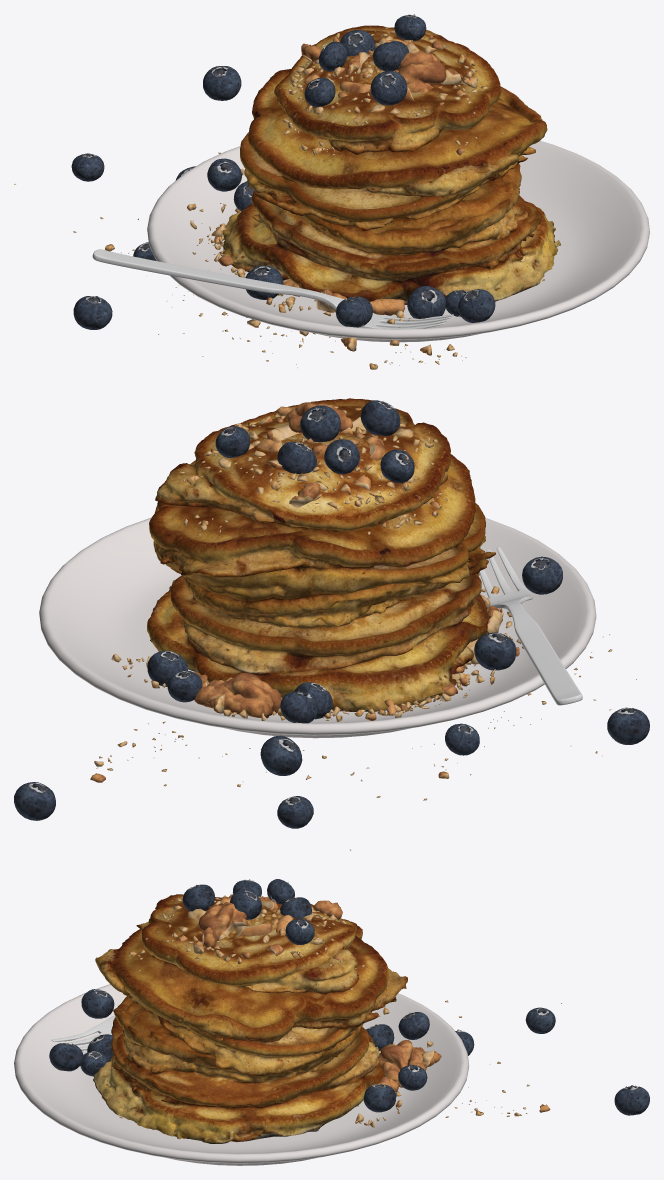
File: panquecas.glb
3 renders of one model, top to bottom at view 1: azimuth 30°, elevation 25°; view 2: azimuth 150°, elevation 25°; view 3: azimuth 270°, elevation 25°, orthographic. The views are drawn at different scales.
Visible parts, largest first — view 1: pancakes_msh, plate_msh, fork_msh, walnut_pancakes_msh, walnut_plate_msh, walnut_broken_msh, blueberry_msh_14, blueberry_msh_13, blueberry_msh_3, blueberry_msh_11, blueberry_msh_18, blueberry_msh_16 (+8 smaller); view 2: pancakes_msh, plate_msh, walnut_plate_msh, walnut_pancakes_msh, fork_msh, walnut_broken_msh, blueberry_msh_20, blueberry_msh_14, blueberry_msh_15, blueberry_msh_13, blueberry_msh_16, blueberry_msh_8 (+11 smaller); view 3: pancakes_msh, plate_msh, walnut_broken_msh, walnut_plate_msh, walnut_pancakes_msh, blueberry_msh_14, blueberry_msh_16, blueberry_msh_18, blueberry_msh_4, blueberry_msh_11, blueberry_msh_19, blueberry_msh_8 (+9 smaller).
Boxes of the visible parts, bbox=[...] form: pancakes_msh: bbox=[222, 25, 560, 304]; plate_msh: bbox=[147, 141, 649, 342]; fork_msh: bbox=[92, 249, 453, 328]; walnut_pancakes_msh: bbox=[281, 27, 503, 161]; walnut_plate_msh: bbox=[14, 152, 466, 369]; walnut_broken_msh: bbox=[301, 38, 446, 100]; blueberry_msh_14: bbox=[203, 66, 241, 100]; blueberry_msh_13: bbox=[73, 296, 112, 329]; blueberry_msh_3: bbox=[407, 286, 445, 318]; blueberry_msh_11: bbox=[370, 71, 407, 105]; blueberry_msh_18: bbox=[458, 289, 495, 322]; blueberry_msh_16: bbox=[336, 296, 372, 327]; pancakes_msh: bbox=[147, 398, 495, 711]; plate_msh: bbox=[39, 517, 596, 738]; walnut_plate_msh: bbox=[90, 586, 636, 850]; walnut_pancakes_msh: bbox=[179, 405, 447, 535]; fork_msh: bbox=[479, 547, 582, 705]; walnut_broken_msh: bbox=[257, 402, 366, 507]; blueberry_msh_20: bbox=[260, 735, 302, 775]; blueberry_msh_14: bbox=[14, 782, 55, 820]; blueberry_msh_15: bbox=[474, 632, 516, 670]; blueberry_msh_13: bbox=[607, 707, 649, 744]; blueberry_msh_16: bbox=[522, 556, 562, 594]; blueberry_msh_8: bbox=[300, 405, 340, 442]; pancakes_msh: bbox=[93, 894, 407, 1143]; plate_msh: bbox=[14, 984, 469, 1165]; walnut_broken_msh: bbox=[187, 900, 342, 940]; walnut_plate_msh: bbox=[355, 1000, 561, 1127]; walnut_pancakes_msh: bbox=[128, 881, 366, 990]; blueberry_msh_14: bbox=[614, 1085, 649, 1115]; blueberry_msh_16: bbox=[81, 989, 114, 1018]; blueberry_msh_18: bbox=[49, 1043, 83, 1071]; blueberry_msh_4: bbox=[363, 1084, 396, 1112]; blueberry_msh_11: bbox=[182, 884, 214, 911]; blueberry_msh_19: bbox=[398, 1012, 429, 1039]; blueberry_msh_8: bbox=[230, 889, 261, 919].
Bounding box in the file's own units: 0.2506 × 0.1019 × 0.2888.
5 materials, 3 textured.
